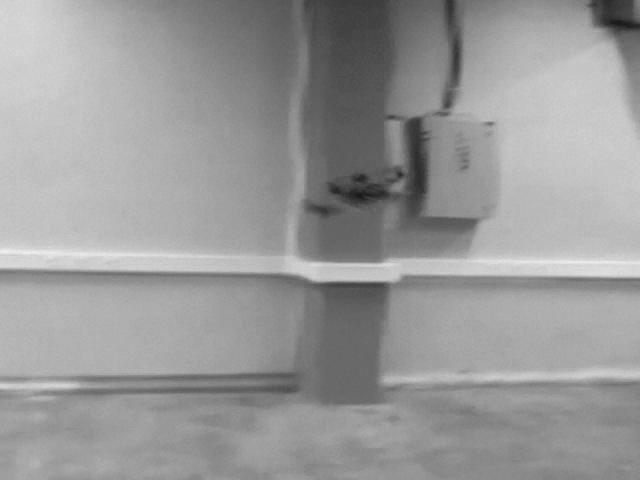drone: (305, 165, 414, 225)
